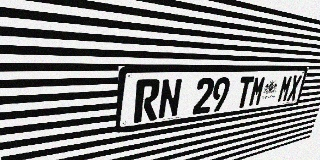2: (192, 77, 215, 115)
9: (210, 77, 231, 112)
M: (248, 76, 267, 107), (277, 75, 293, 103)
N: (157, 78, 183, 120)
R: (133, 79, 161, 123)
T: (235, 76, 254, 109)
X: (286, 75, 302, 101)
